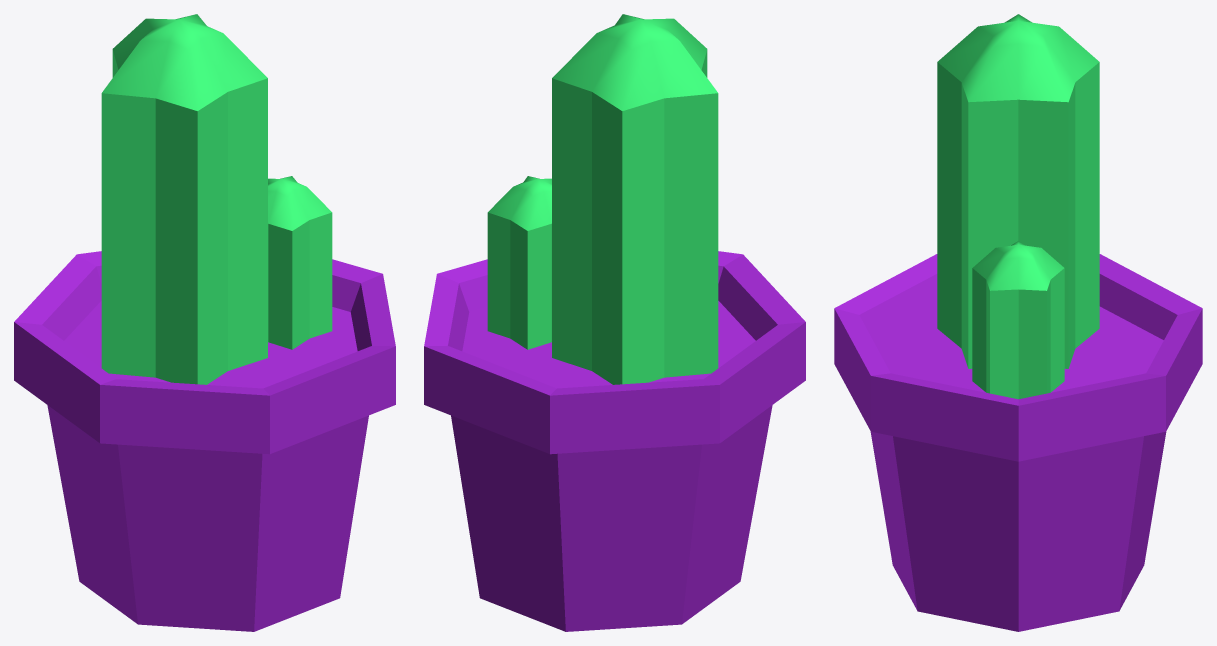
Rendered from MACETA CACTUS .fbx.
3 views of the same model, side by side, from view 1: azimuth 30°, elevation 25°; view 2: azimuth 150°, elevation 25°; view 3: azimuth 270°, elevation 25° (orthographic). The views are drawn at different scales.
Visible parts, largest first — view 1: maceta_baja, CACTUS; view 2: maceta_baja, CACTUS; view 3: maceta_baja, CACTUS.
Boxes of the visible parts, x1,y1,x2,y2 form: maceta_baja: (14,251,395,631); CACTUS: (101,14,332,384); maceta_baja: (424,251,805,631); CACTUS: (487,14,718,384); maceta_baja: (834,254,1202,631); CACTUS: (937,14,1099,399).
Size of the model in its own units: 220 by 365 by 226.
